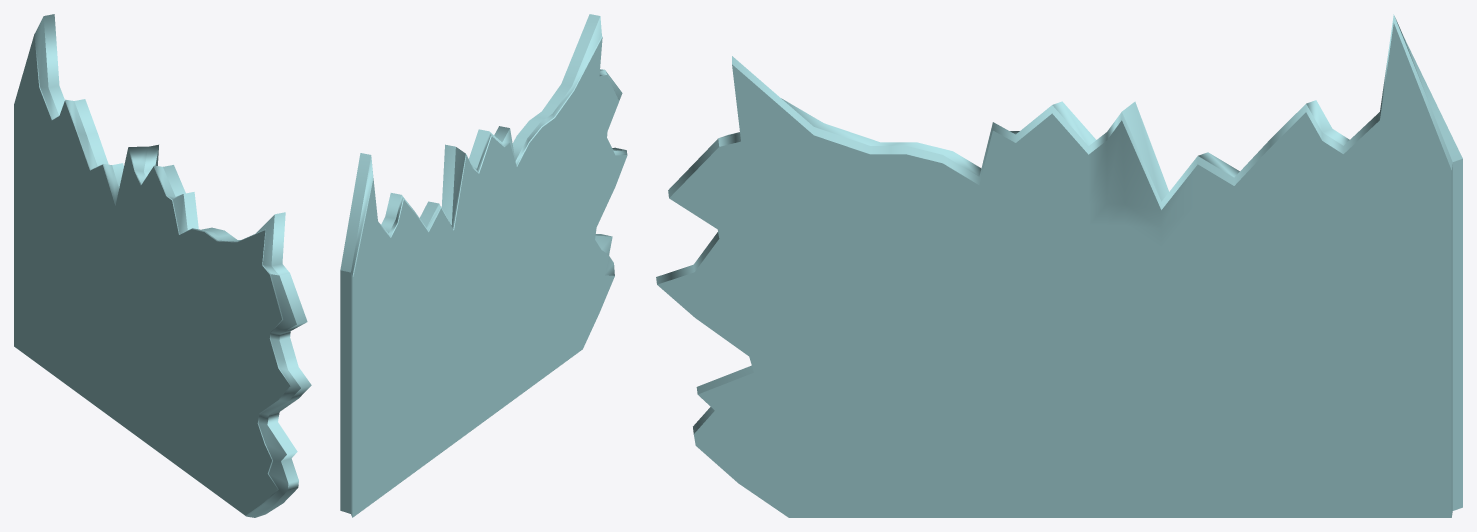
File: IceSheet_02.fbx
The picture shows the model from 3 angles, left to right: view 1: azimuth 30°, elevation 25°; view 2: azimuth 150°, elevation 25°; view 3: azimuth 270°, elevation 25°; orthographic projection. The views are drawn at different scales.
Parts seen in each view (by area): view 1: IceSheet_01; view 2: IceSheet_01; view 3: IceSheet_01.
Part boxes in pixels (x1,y1,x2,y2): IceSheet_01: (14,14,311,517); IceSheet_01: (340,14,627,517); IceSheet_01: (656,14,1462,517).
Size of the model in its own units: 187 by 2351 by 3458.
